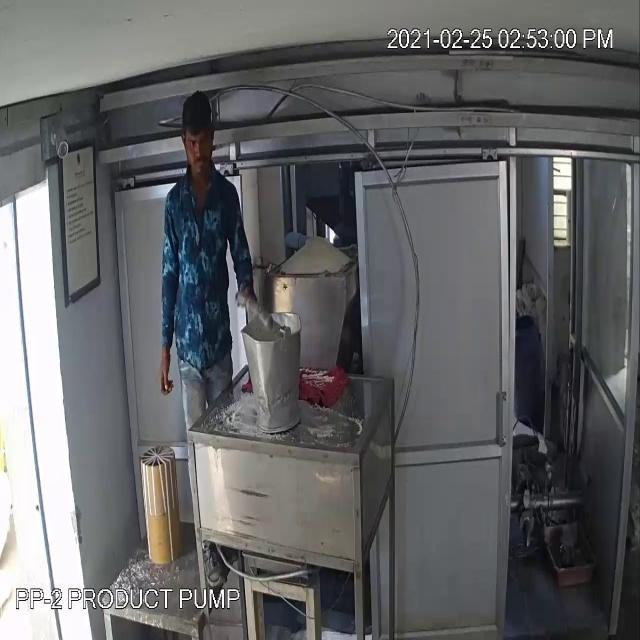no-helmet: (174, 82, 218, 153)
